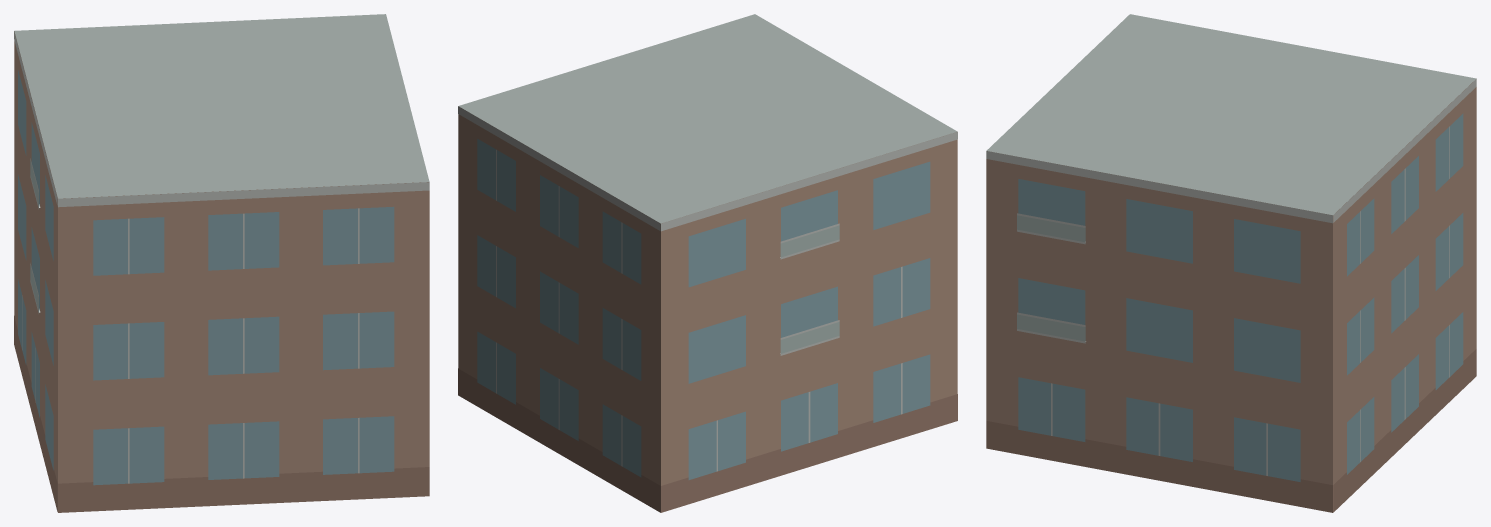
The model's file is survey-upis-33036931.glb.
3 renders of one model, left to right at view 1: azimuth 30°, elevation 25°; view 2: azimuth 150°, elevation 25°; view 3: azimuth 270°, elevation 25°, orthographic. The views are drawn at different scales.
Visible parts, largest first — view 1: survey-upis-33036931.tmp; view 2: survey-upis-33036931.tmp; view 3: survey-upis-33036931.tmp.
Boxes of the visible parts, <box> form: survey-upis-33036931.tmp: <box>14,14,429,512</box>; survey-upis-33036931.tmp: <box>458,14,957,512</box>; survey-upis-33036931.tmp: <box>986,14,1476,512</box>.
Bounding box in the file's own units: 13.06 × 9 × 13.45.
